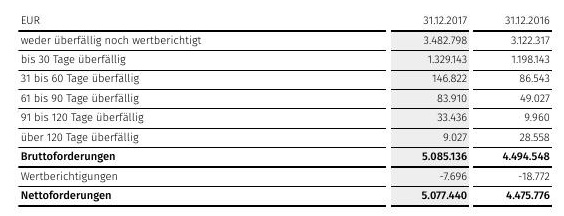table: (0, 0, 564, 216)
